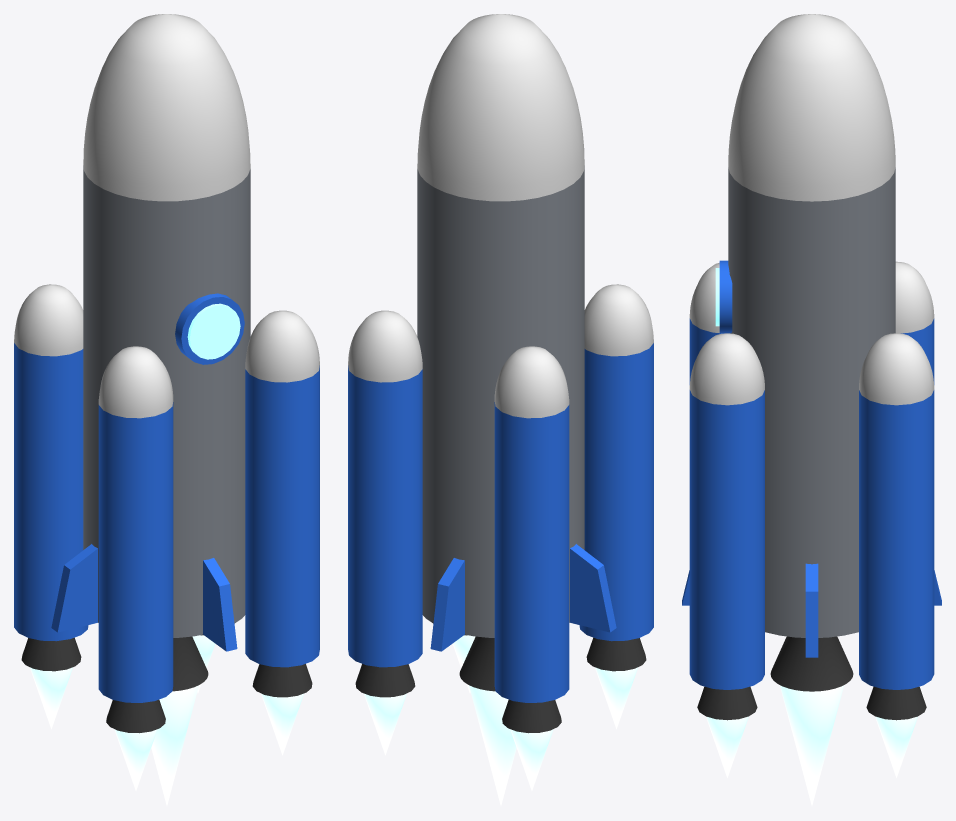
The model's file is Rocket_17_ClusterCore.fbx.
The picture shows the model from 3 angles, left to right: view 1: azimuth 30°, elevation 25°; view 2: azimuth 150°, elevation 25°; view 3: azimuth 270°, elevation 25°; orthographic projection.
Visible parts, largest first — view 1: R17_Body, R17_Nose, R17_Booster_3, R17_Booster_4, R17_Booster_2, R17_BoosterNose_4, R17_BoosterNose_3, R17_BoosterNose_2, R17_Fin_2, R17_Flame_1, R17_Fin_3, R17_Window_1 (+8 smaller); view 2: R17_Body, R17_Nose, R17_Booster_2, R17_Booster_1, R17_Booster_3, R17_BoosterNose_1, R17_BoosterNose_2, R17_BoosterNose_3, R17_Fin_2, R17_Flame_1, R17_Fin_1, R17_BoosterNozzle_1 (+6 smaller); view 3: R17_Body, R17_Nose, R17_Booster_1, R17_Booster_4, R17_BoosterNose_1, R17_BoosterNose_4, R17_Flame_1, R17_Nozzle_1, R17_BoosterNose_2, R17_BoosterNozzle_1, R17_BoosterNozzle_4, R17_BoosterNose_3 (+6 smaller).
Boxes of the visible parts, x1,y1,x2,y2 form: R17_Body: (83,165,250,637); R17_Nose: (83,14,250,201); R17_Booster_3: (98,402,173,702); R17_Booster_4: (245,365,319,667); R17_Booster_2: (14,343,88,641); R17_BoosterNose_4: (245,310,319,382); R17_BoosterNose_3: (98,346,173,418); R17_BoosterNose_2: (14,284,83,356); R17_Fin_2: (51,544,97,632); R17_Flame_1: (151,685,198,805); R17_Fin_3: (203,558,237,651); R17_Window_1: (187,303,240,359); R17_Body: (417,165,584,637); R17_Nose: (417,14,584,201); R17_Booster_2: (494,402,569,702); R17_Booster_1: (348,365,422,667); R17_Booster_3: (579,343,653,641); R17_BoosterNose_1: (348,310,422,382); R17_BoosterNose_2: (494,346,569,418); R17_BoosterNose_3: (584,284,653,356); R17_Fin_2: (570,544,616,632); R17_Flame_1: (469,685,516,805); R17_Fin_1: (430,558,464,651); R17_BoosterNozzle_1: (355,664,415,697); R17_Body: (728,167,895,637); R17_Nose: (728,14,895,201); R17_Booster_1: (859,390,934,689); R17_Booster_4: (689,390,764,689); R17_BoosterNose_1: (859,333,934,405); R17_BoosterNose_4: (689,333,764,405); R17_Flame_1: (779,685,844,805); R17_Nozzle_1: (770,636,853,691); R17_BoosterNose_2: (895,261,934,333); R17_BoosterNozzle_1: (866,686,926,720); R17_BoosterNozzle_4: (697,686,757,720); R17_BoosterNose_3: (689,262,719,332).
Size of the model in its own units: 2.48 by 8.35 by 2.48.
